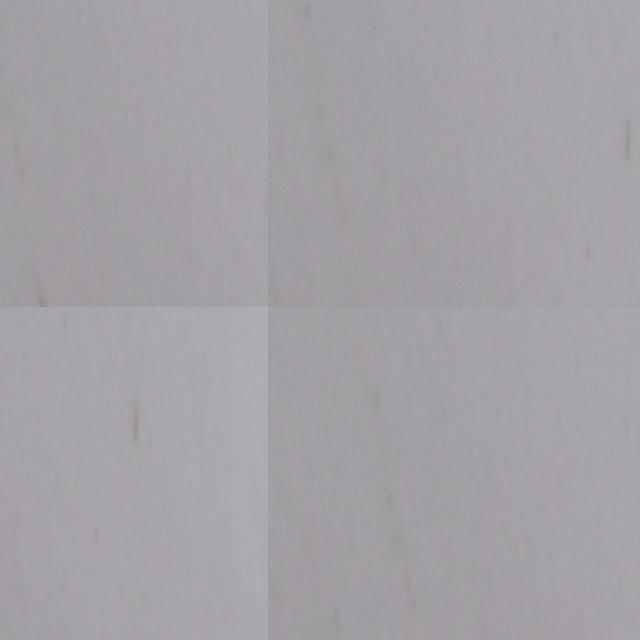fish: (268, 557, 640, 640)
